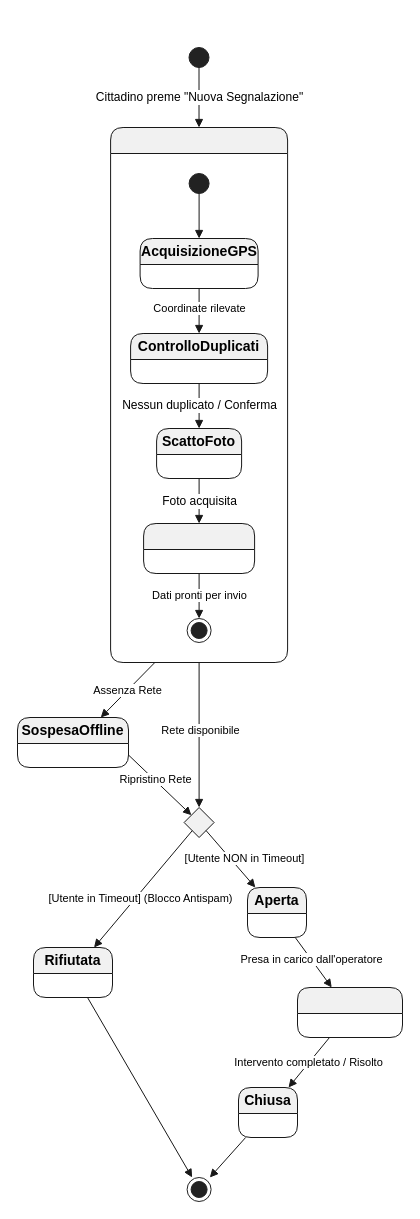
The diagram is 420 pixels wide and 1219 high, and some of its shapes have lost their labels. Here are the shapes that lost their labels. From the top down, the box of each, then its label:
(110, 126, 288, 662): InCompilazione
(143, 522, 255, 574): ElaborazioneIA
(296, 986, 402, 1038): InLavorazione
